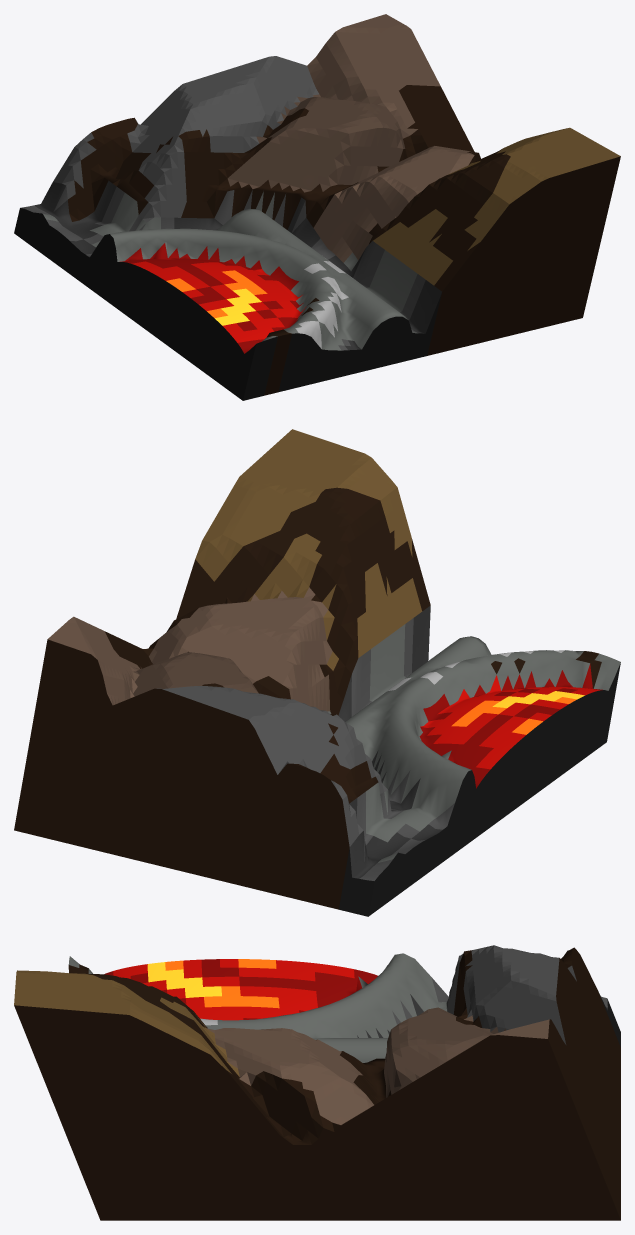
File: ixm_boss_199.glb
3 renders of one model, top to bottom at view 1: azimuth 30°, elevation 25°; view 2: azimuth 150°, elevation 25°; view 3: azimuth 270°, elevation 25°, orthographic. The views are drawn at different scales.
Visible parts, largest first — view 1: ixm_boss_199; view 2: ixm_boss_199; view 3: ixm_boss_199.
Boxes of the visible parts, x1,y1,x2,y2 form: ixm_boss_199: (14,14,620,400); ixm_boss_199: (14,429,620,916); ixm_boss_199: (14,945,620,1220).
Size of the model in its own units: 24 by 12.79 by 32.66.
